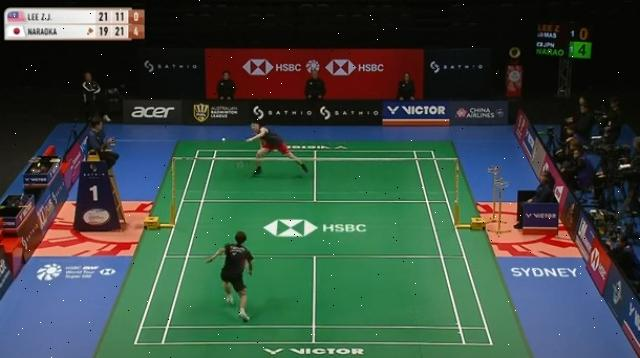Shuttlecock: (220, 134, 232, 146)
